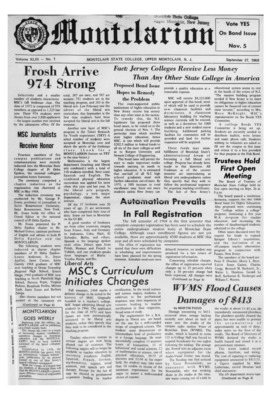news_paper: (4, 7, 268, 395)
